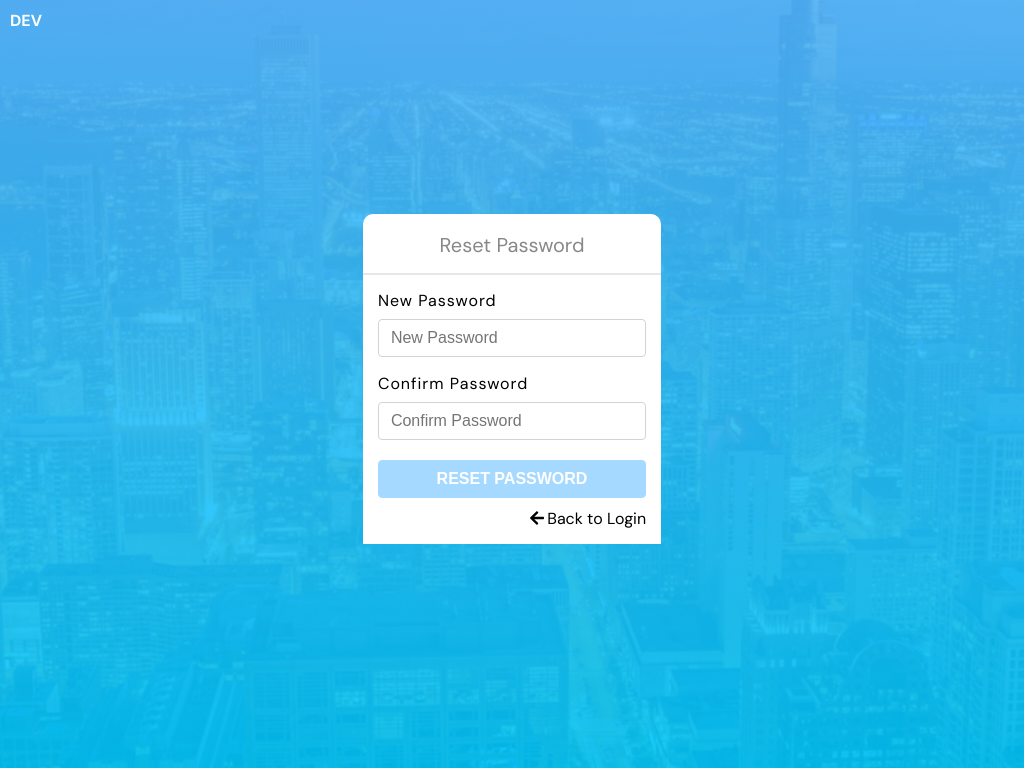
Test: ResetPassword › Error › should display error alert and border
The image size is (1024, 768).
Type "qwerty1" into the password field labelled "New Password" at [512, 338], box [378,319,646,357]
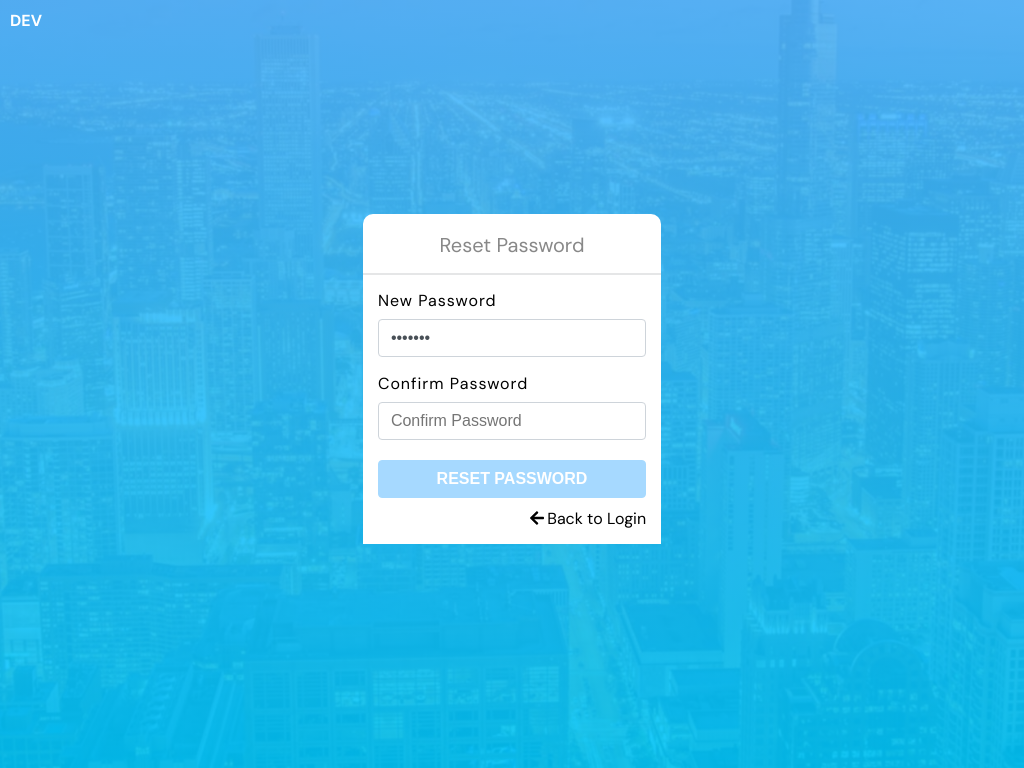
Type "qwerty1" into the password field labelled "Confirm Password" at [512, 421], box [378,402,646,440]
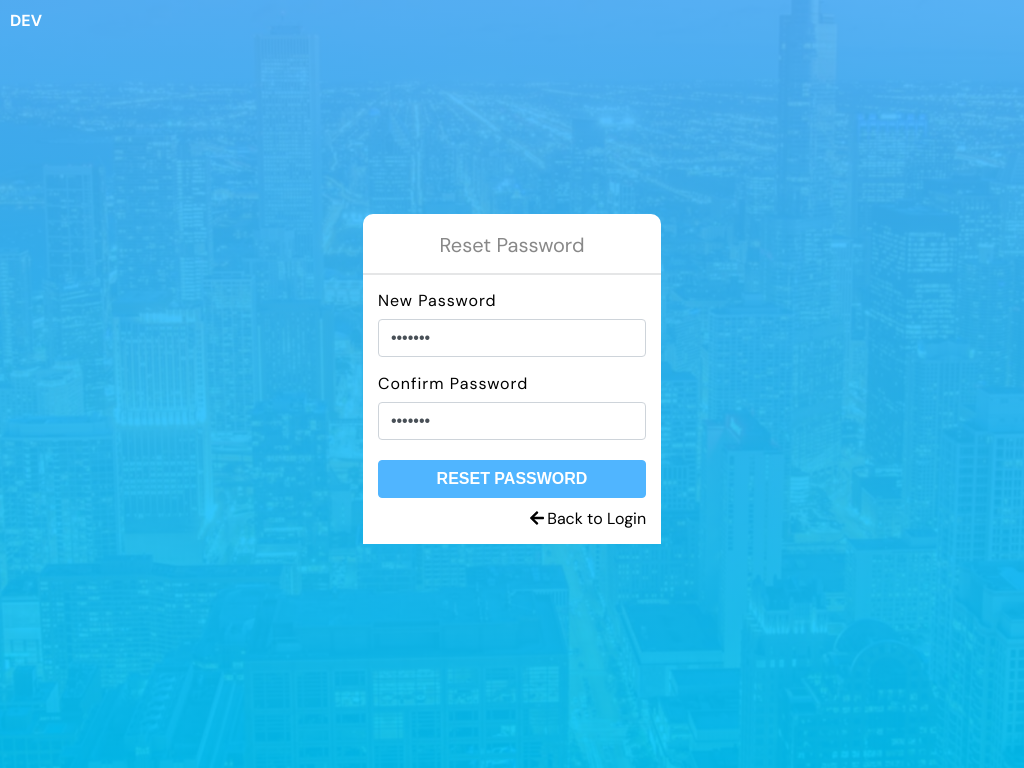
Click the button at [512, 479], box [378,460,646,498]
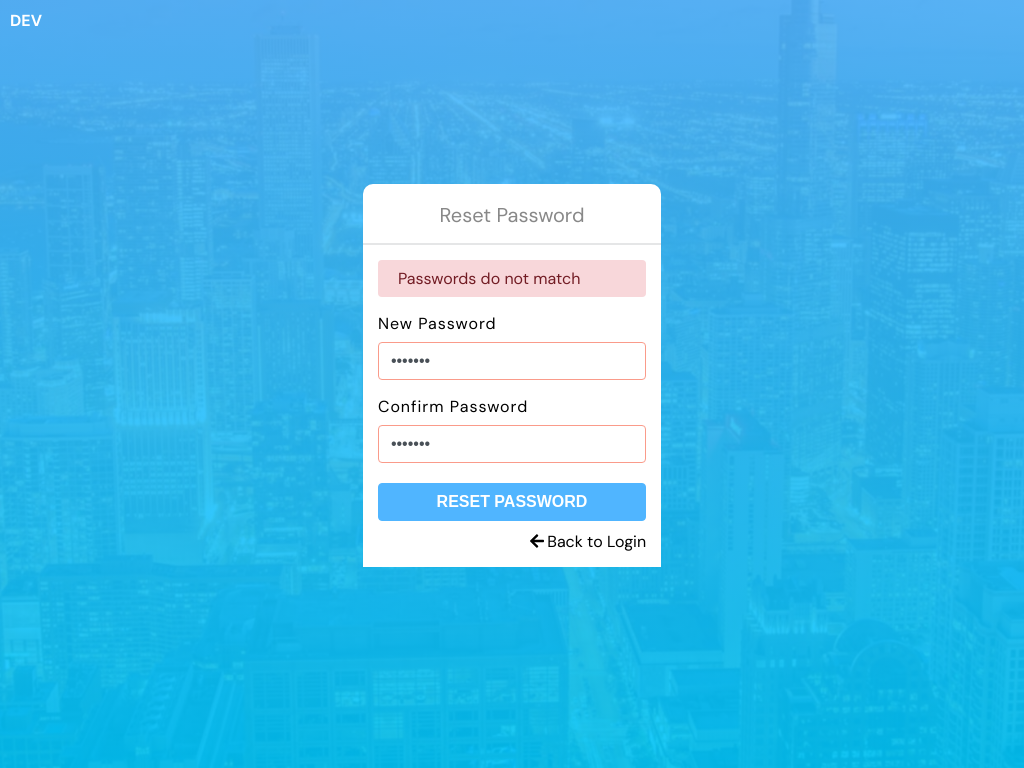
Check: the message "Passwords do not match" is shown, box [378,260,646,297]
Check: the message reads "Passwords do not match", box [398,268,580,289]
